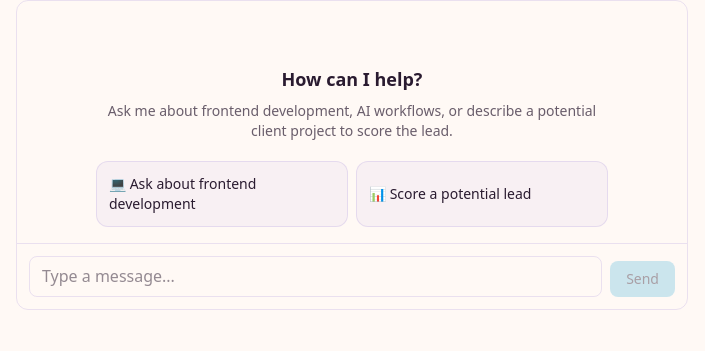
it: ChatInterface › shows a validation error when the chat form is submitted empty
This screenshot has width=705, height=351.
Click the text box with placeholder "Type a message..." at (316, 276), box [29, 256, 602, 297]
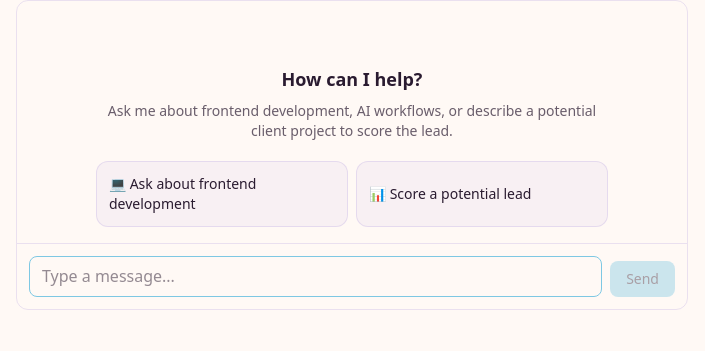
Press Enter
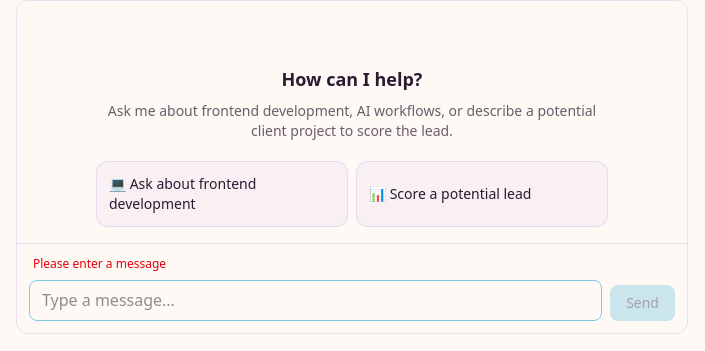
Result: the text "Please enter a message" is shown at [33, 255, 166, 272]
